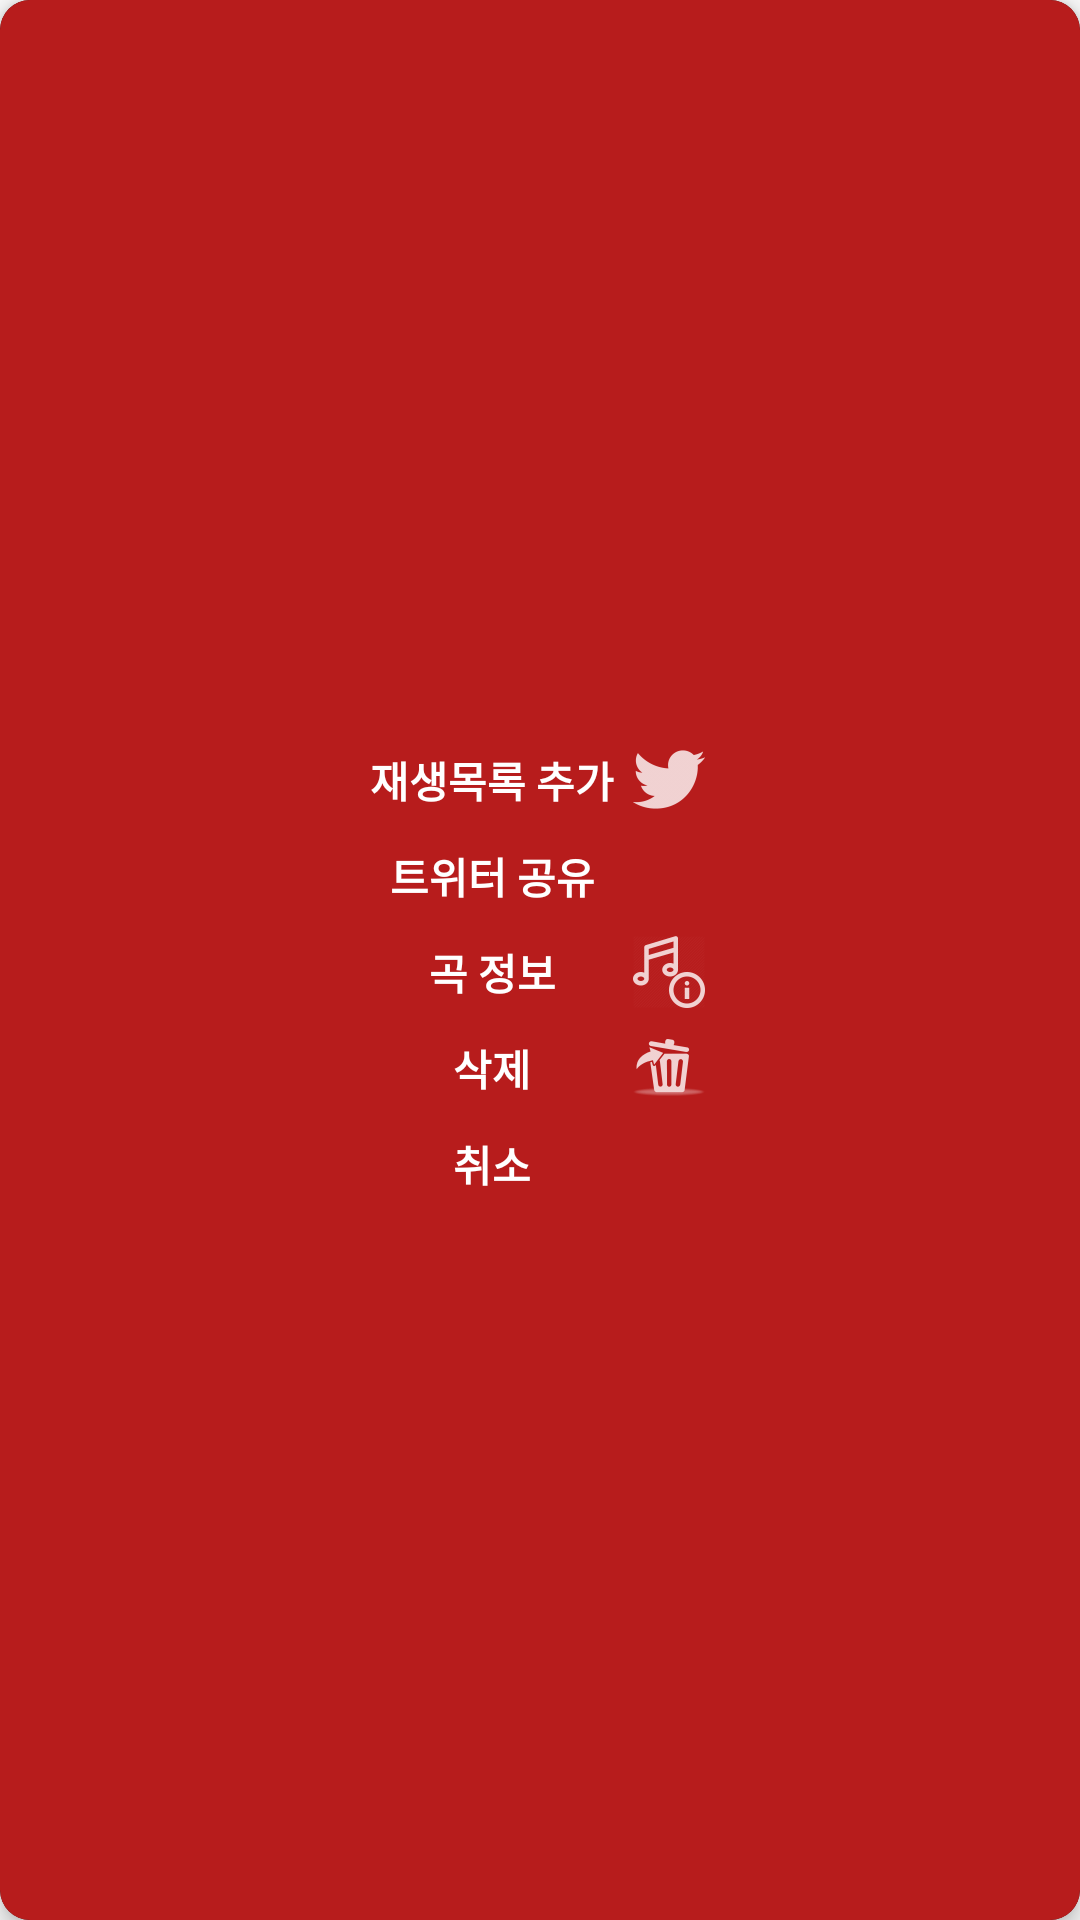

Icon bounding boxes for this 1080 × 1920 phone screenshot, format {"left": x1, "top": y1, "right": x2, "bottom": y2}:
remove: {"left": 636, "top": 1039, "right": 702, "bottom": 1095}
songinfo: {"left": 633, "top": 936, "right": 705, "bottom": 1008}
